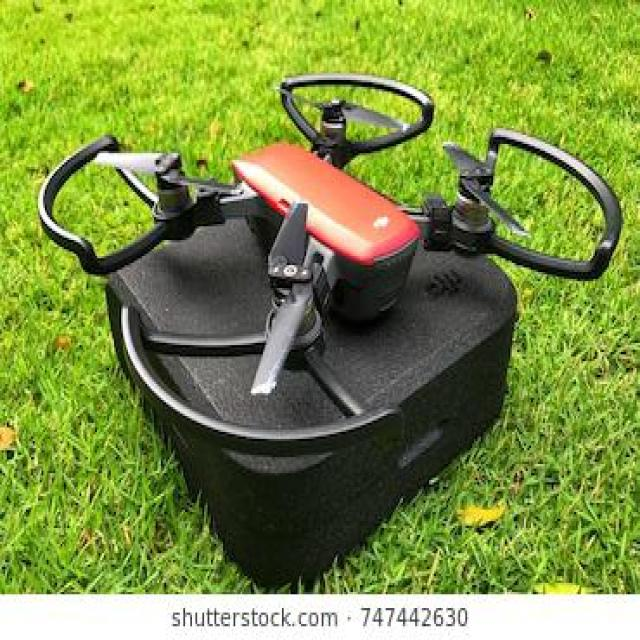drone: (0, 44, 632, 578)
